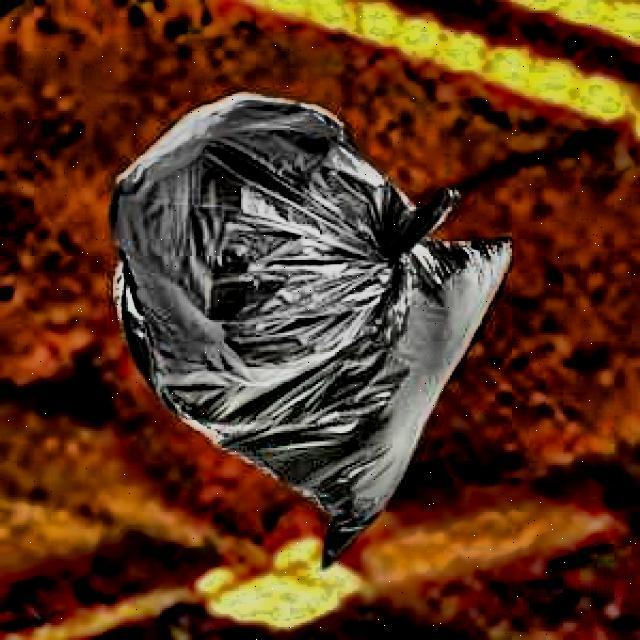Trashbag: (101, 78, 460, 405)
